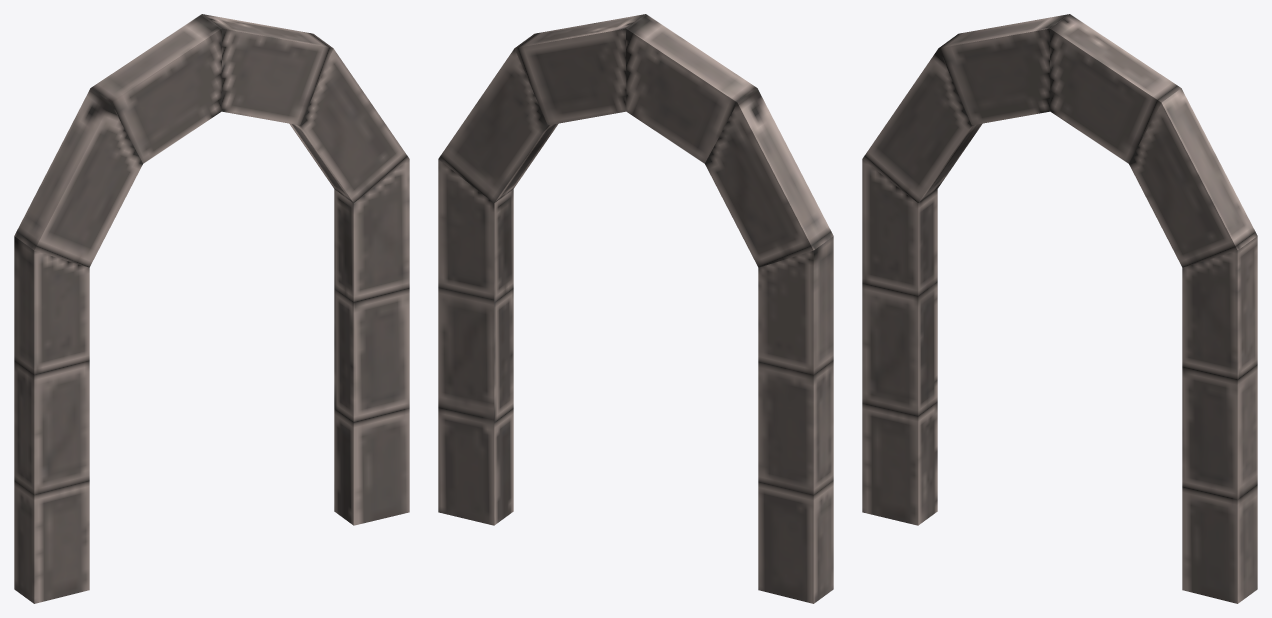
Rendered from Gate 1.fbx.
The picture shows the model from 3 angles, left to right: view 1: azimuth 30°, elevation 25°; view 2: azimuth 150°, elevation 25°; view 3: azimuth 330°, elevation 25°; orthographic projection.
Parts seen in each view (by area): view 1: gate; view 2: gate; view 3: gate.
Part boxes in pixels (<box>): gate: <box>14,14,409,603</box>; gate: <box>438,14,833,603</box>; gate: <box>862,14,1257,603</box>.
Size of the model in its own units: 947 by 1277 by 87.23.
